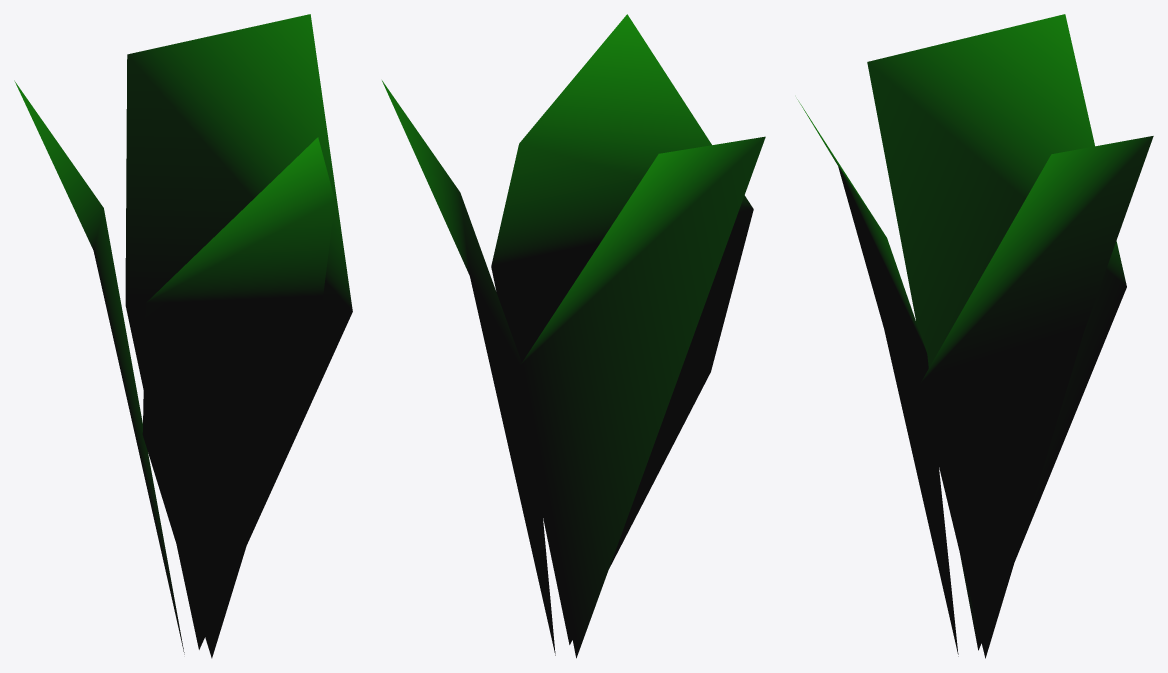
Rendered from Rice_1.fbx.
The picture shows the model from 3 angles, left to right: view 1: azimuth 30°, elevation 25°; view 2: azimuth 150°, elevation 25°; view 3: azimuth 270°, elevation 25°; orthographic projection.
Parts seen in each view (by area): view 1: Rice_1; view 2: Rice_1; view 3: Rice_1.
Part boxes in pixels (<box>): Rice_1: <box>14,14,352,658</box>; Rice_1: <box>382,14,765,658</box>; Rice_1: <box>797,14,1153,658</box>.
Bounding box in the file's own units: 37.69 × 69.69 × 39.37.
